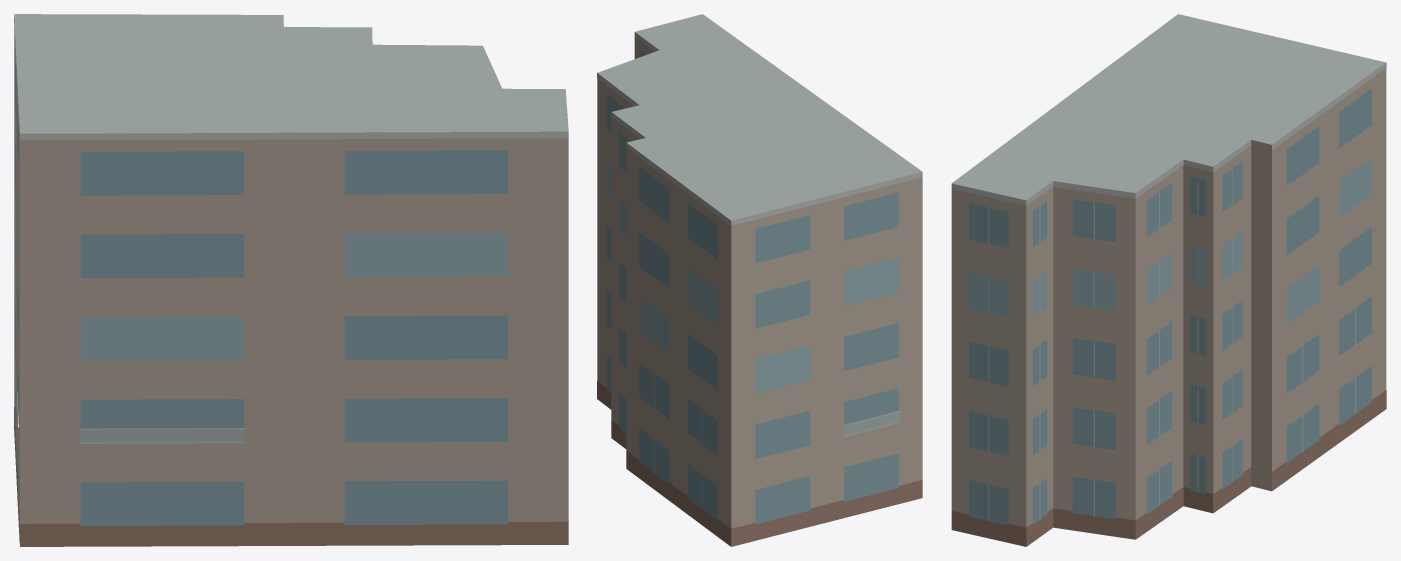
File: survey-upis-33028702.glb
3 renders of one model, left to right at view 1: azimuth 30°, elevation 25°; view 2: azimuth 150°, elevation 25°; view 3: azimuth 270°, elevation 25°, orthographic. The views are drawn at different scales.
Parts seen in each view (by area): view 1: survey-upis-33028702.tmp; view 2: survey-upis-33028702.tmp; view 3: survey-upis-33028702.tmp.
Part boxes in pixels (x1,y1,x2,y2): survey-upis-33028702.tmp: (14, 14, 568, 546); survey-upis-33028702.tmp: (597, 14, 922, 546); survey-upis-33028702.tmp: (951, 14, 1386, 546).
Size of the model in its own units: 17.6 by 15.25 by 17.35.
